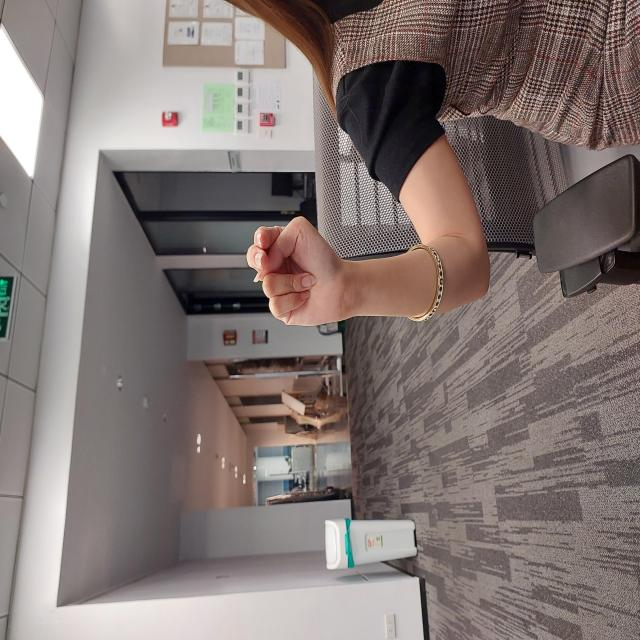N: (312, 245, 426, 352)
